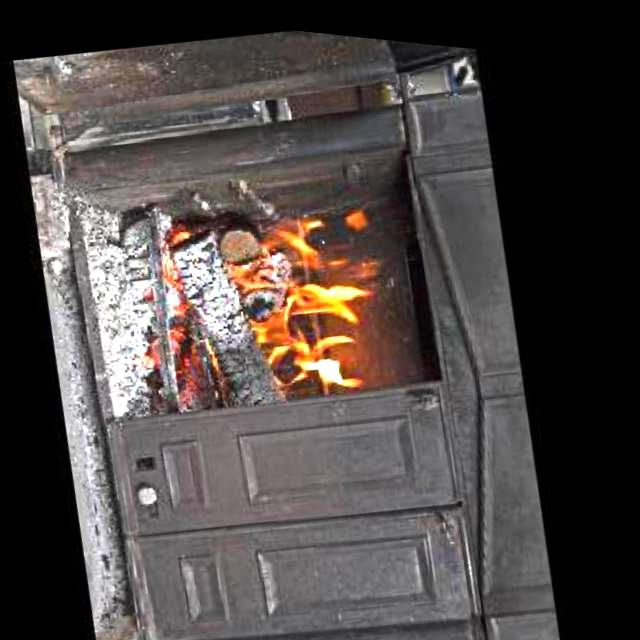fire: (219, 172, 417, 400)
